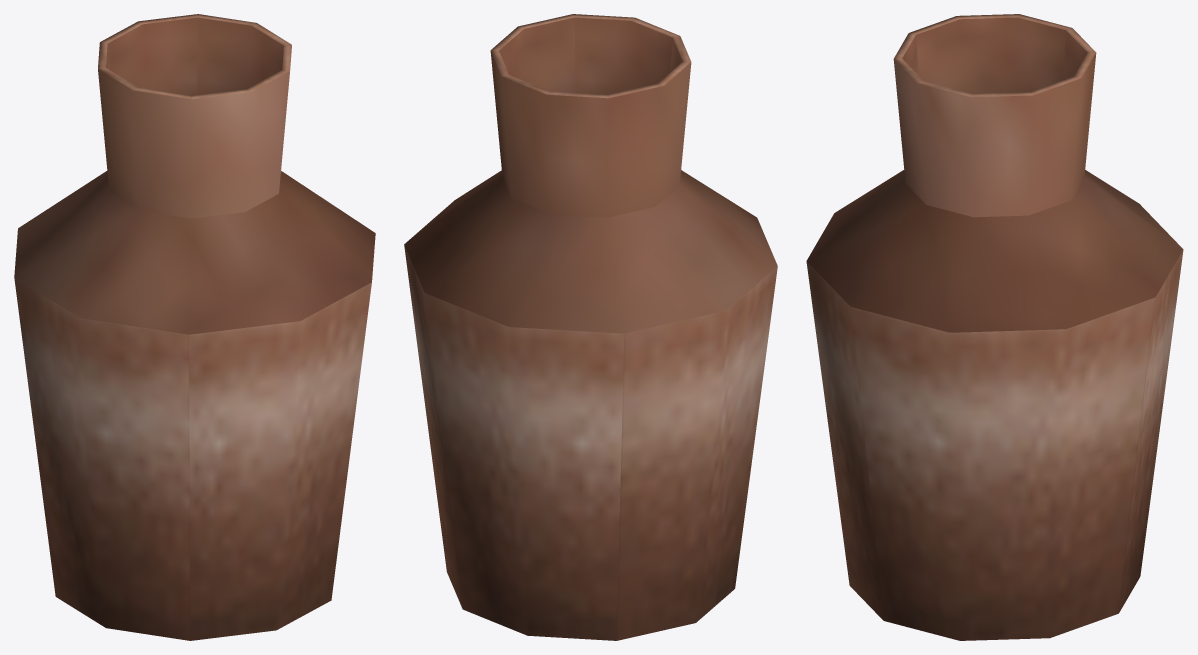
The model's file is cer_5.dae.
The picture shows the model from 3 angles, left to right: view 1: azimuth 30°, elevation 25°; view 2: azimuth 150°, elevation 25°; view 3: azimuth 270°, elevation 25°; orthographic projection.
Parts seen in each view (by area): view 1: cer_5; view 2: cer_5; view 3: cer_5.
Boxes of the visible parts, x1=… form: cer_5: x1=14, y1=14, x2=375, y2=640; cer_5: x1=404, y1=14, x2=777, y2=640; cer_5: x1=806, y1=14, x2=1183, y2=640.
Size of the model in its own units: 0.9322 by 0.9575 by 1.47.
